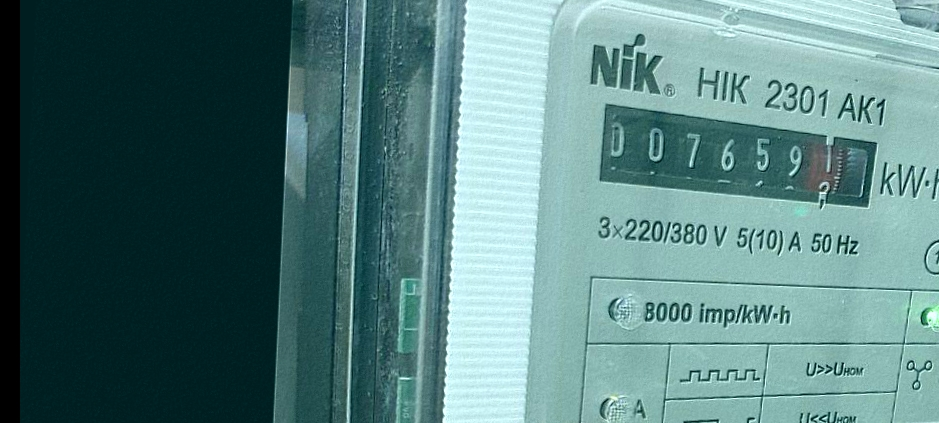0: (644, 122, 670, 164), (605, 118, 630, 160)
1: (820, 142, 839, 176)
5: (752, 134, 774, 173)
6: (717, 134, 740, 174)
7: (683, 129, 703, 170)
9: (786, 142, 805, 180)
screen: (589, 94, 888, 226)
